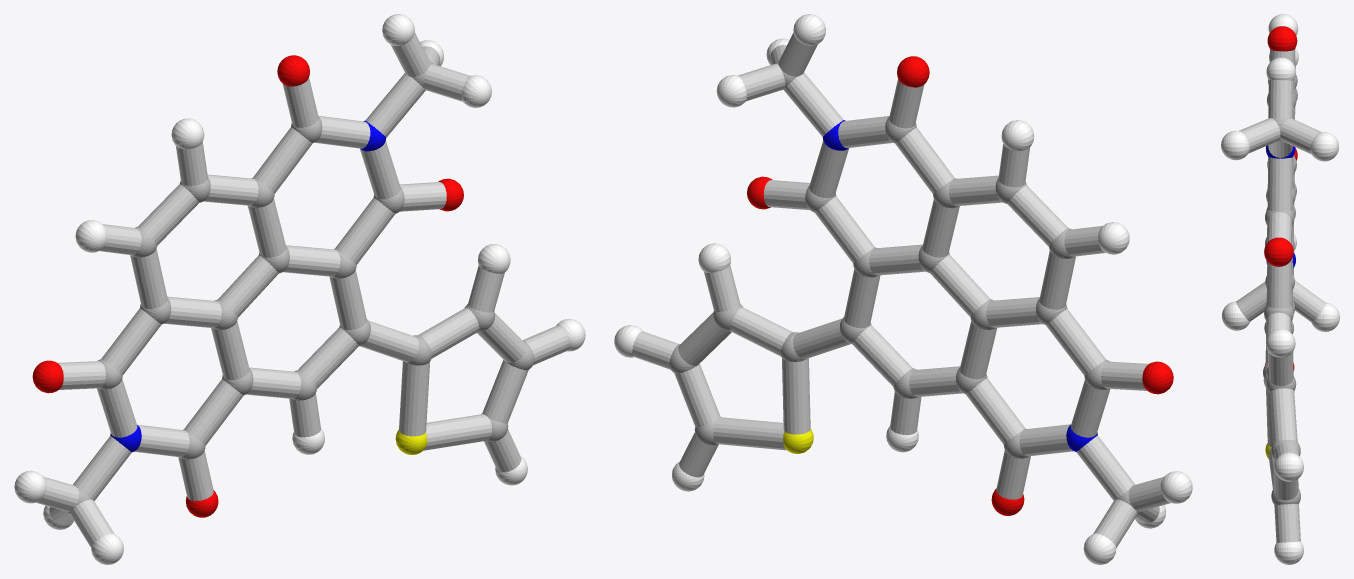
The model's file is Dimethyl_Naphthalene_Dicarboximide_Phi_5_Theta_0_Thiophene.glb.
The picture shows the model from 3 angles, left to right: view 1: azimuth 30°, elevation 25°; view 2: azimuth 150°, elevation 25°; view 3: azimuth 270°, elevation 25°; orthographic projection. The views are drawn at different scales.
Visible parts, largest first — view 1: grp14119, grp7241, grp1, grp12309, grp11585; view 2: grp14119, grp7241, grp1, grp12309, grp11585; view 3: grp14119, grp7241, grp1, grp12309, grp11585.
Boxes of the visible parts, x1,y1,x2,y2 form: grp14119: (36,32,569,547); grp7241: (14,14,585,564); grp1: (66,60,534,514); grp12309: (32,55,463,517); grp11585: (110,120,386,452); grp14119: (632,32,1170,547); grp7241: (614,14,1192,564); grp1: (669,60,1142,514); grp12309: (747,56,1173,515); grp11585: (822,120,1097,451); grp14119: (1236,48,1325,542); grp7241: (1221,14,1339,564); grp1: (1263,75,1300,504); grp12309: (1264,26,1297,370); grp11585: (1265,145,1295,267).
Bounding box in the file's own units: 12.06 × 10.1 × 2.4.
